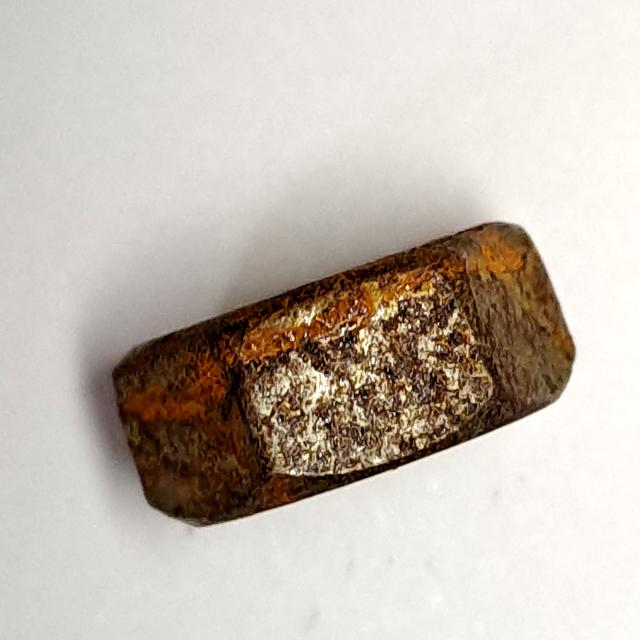Side_Rust: (100, 209, 581, 542)
